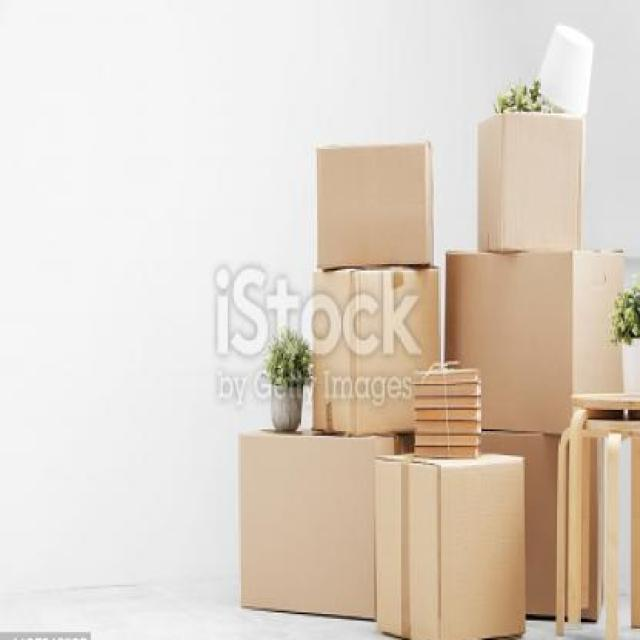box: (438, 237, 624, 447), (233, 420, 410, 624), (369, 450, 534, 640), (462, 416, 601, 637), (300, 248, 448, 445), (471, 96, 586, 272), (310, 136, 442, 271)
